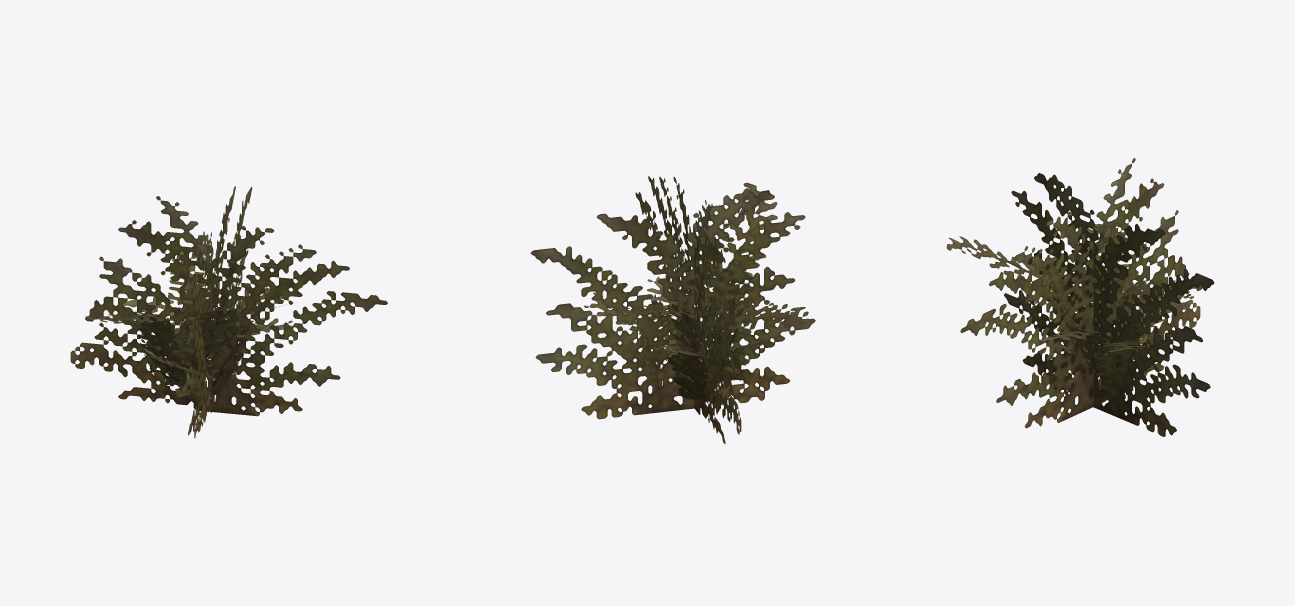
Rendered from charred_fern_4.obj.
3 renders of one model, left to right at view 1: azimuth 30°, elevation 25°; view 2: azimuth 150°, elevation 25°; view 3: azimuth 270°, elevation 25°, orthographic. The views are drawn at different scales.
Visible parts, largest first — view 1: cube; view 2: cube; view 3: cube.
Part boxes in pixels (left/top/right/bottom): cube: left=70, top=186, right=387, bottom=438; cube: left=530, top=176, right=815, bottom=443; cube: left=946, top=158, right=1214, bottom=436.
Size of the model in its own units: 2.07 by 2.81 by 2.03.
